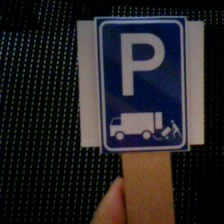load: (88, 13, 199, 159)
